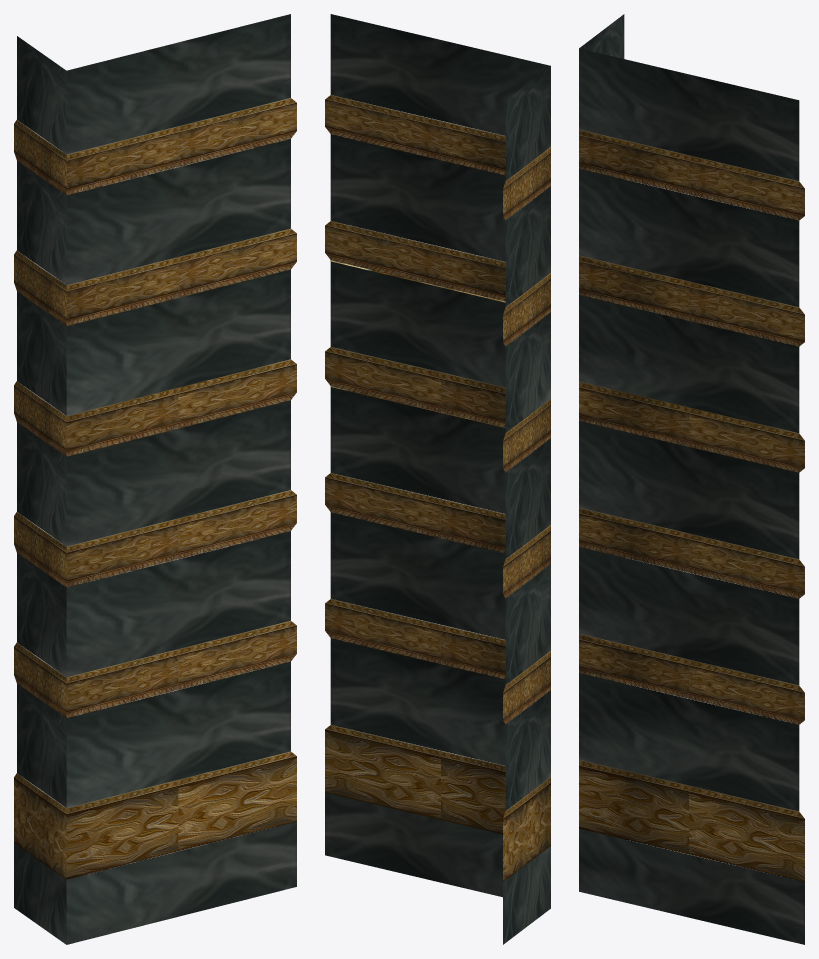
File: S_Build_City186.FBX
3 renders of one model, left to right at view 1: azimuth 30°, elevation 25°; view 2: azimuth 150°, elevation 25°; view 3: azimuth 330°, elevation 25°, orthographic. The views are drawn at different scales.
Visible parts, largest first — view 1: S_Build_City186; view 2: S_Build_City186; view 3: S_Build_City186.
Part boxes in pixels (box(x1,y1,x2,y2)): S_Build_City186: box(14, 14, 296, 944); S_Build_City186: box(325, 14, 550, 944); S_Build_City186: box(579, 14, 804, 944).
Size of the model in its own units: 1138 by 4066 by 431.
